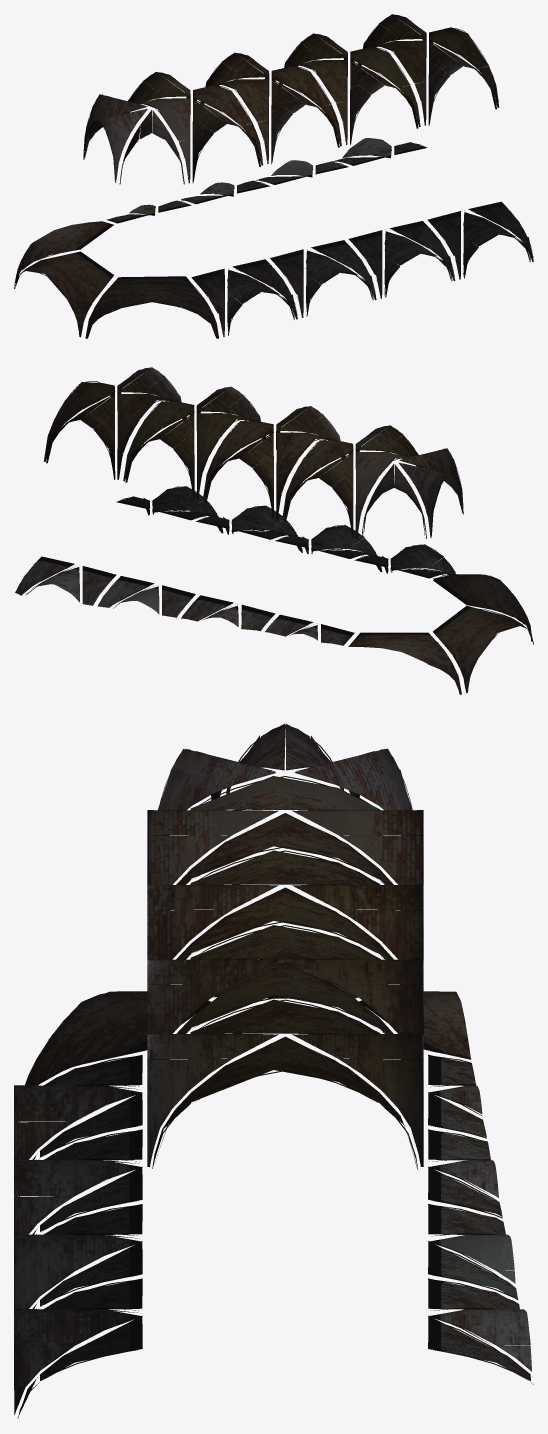
Rendered from OuterRoof.obj.
The picture shows the model from 3 angles, top to bottom: view 1: azimuth 30°, elevation 25°; view 2: azimuth 150°, elevation 25°; view 3: azimuth 270°, elevation 25°; orthographic projection. The views are drawn at different scales.
Visible parts, largest first — view 1: Circle.019_0.002; view 2: Circle.019_0.002; view 3: Circle.019_0.002.
Boxes of the visible parts, x1,y1,x2,y2 form: Circle.019_0.002: (14,14,533,338); Circle.019_0.002: (15,367,533,694); Circle.019_0.002: (14,723,533,1418).
Bounding box in the file's own units: 36.5 × 15.06 × 20.25.
